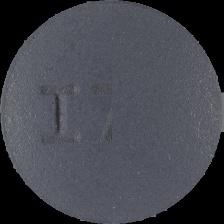55111-639: (0, 0, 224, 224)
